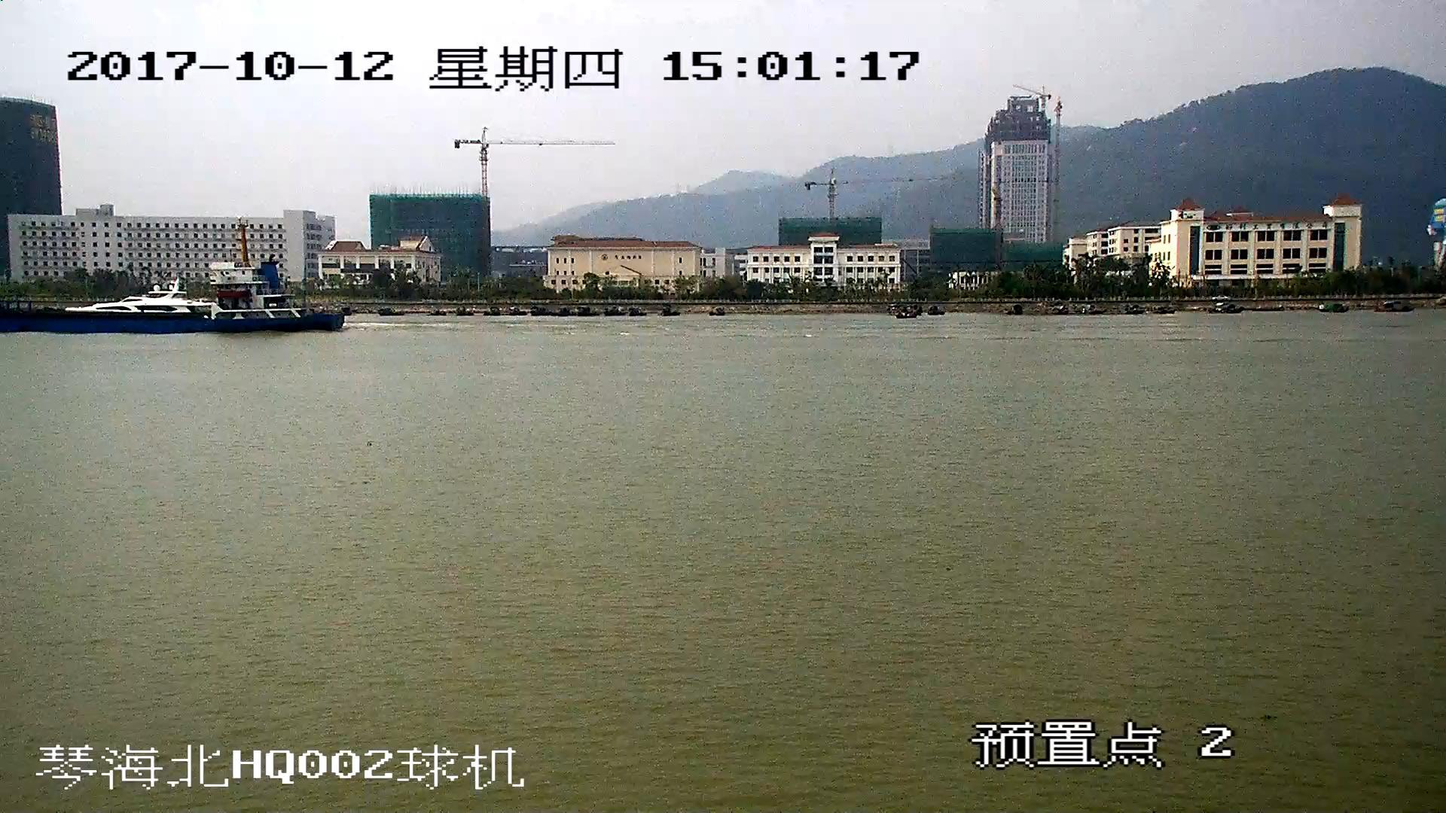general cargo ship: (0, 227, 340, 333)
